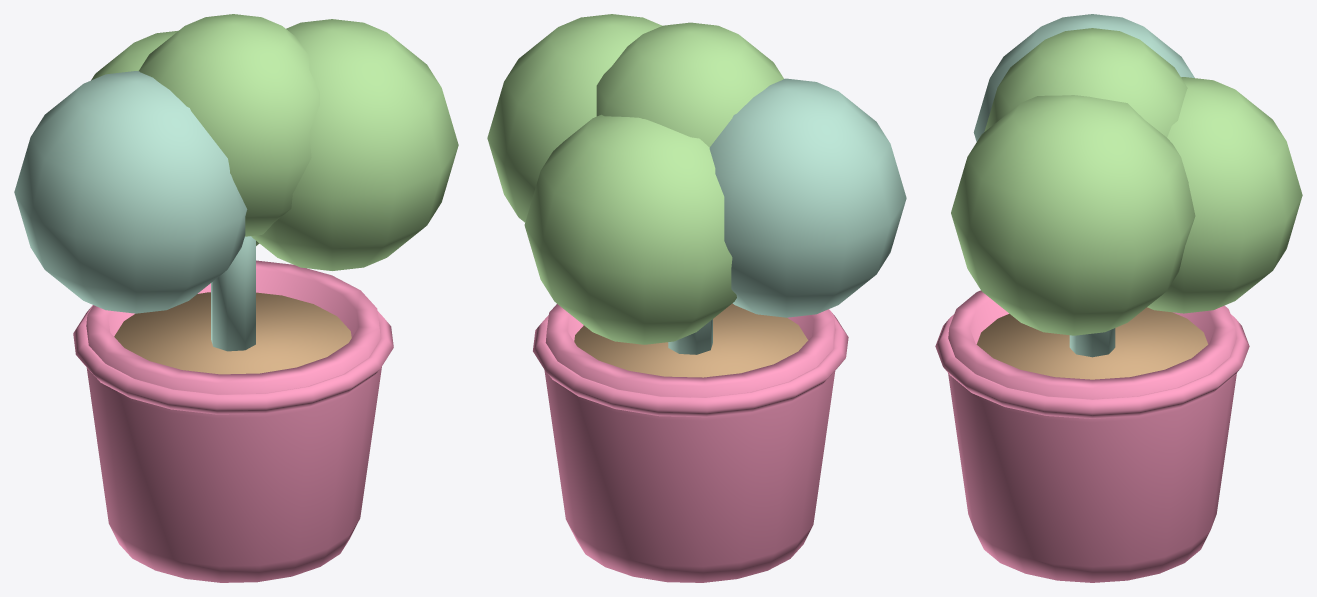
File: plant_round.glb
3 renders of one model, left to right at view 1: azimuth 30°, elevation 25°; view 2: azimuth 150°, elevation 25°; view 3: azimuth 270°, elevation 25°, orthographic. The views are drawn at different scales.
Parts seen in each view (by area): view 1: Body; view 2: Body; view 3: Body.
Part boxes in pixels (<box>): Body: <box>14,14,458,582</box>; Body: <box>487,14,906,582</box>; Body: <box>935,14,1302,582</box>.
Bounding box in the file's own units: 0.495 × 0.6 × 0.402.
4 materials, 4 textured.
